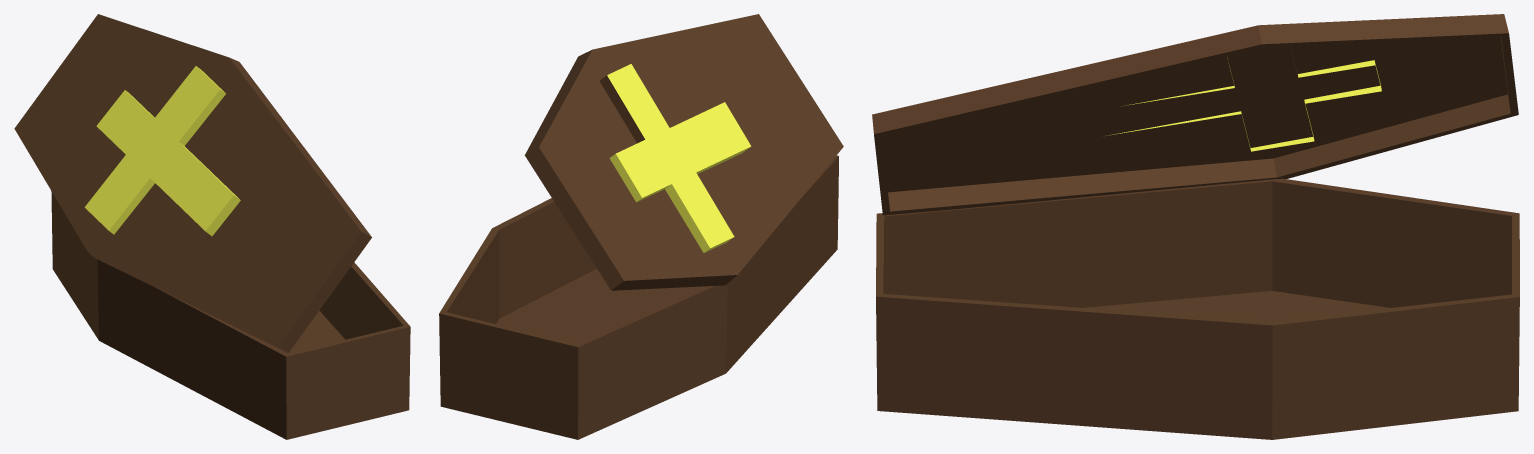
Rendered from Casket Test 1.fbx.
3 renders of one model, left to right at view 1: azimuth 30°, elevation 25°; view 2: azimuth 150°, elevation 25°; view 3: azimuth 270°, elevation 25°, orthographic. The views are drawn at different scales.
Visible parts, largest first — view 1: Casket Lid, Casket; view 2: Casket Lid, Casket; view 3: Casket, Casket Lid.
Part boxes in pixels (left/top/right/bottom): Casket Lid: left=14, top=14, right=371, bottom=352; Casket: left=51, top=191, right=410, bottom=439; Casket Lid: left=524, top=14, right=843, bottom=290; Casket: left=439, top=155, right=838, bottom=439; Casket: left=876, top=178, right=1519, bottom=439; Casket Lid: left=872, top=14, right=1518, bottom=215.
Size of the model in its own units: 189 by 214 by 351.
